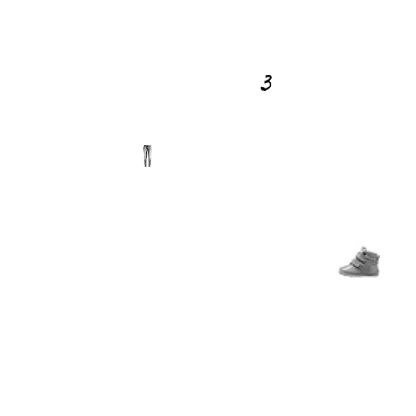3: (256, 72, 278, 94)
Ankle_boot: (338, 240, 380, 282)
Trouser: (136, 145, 158, 167)
